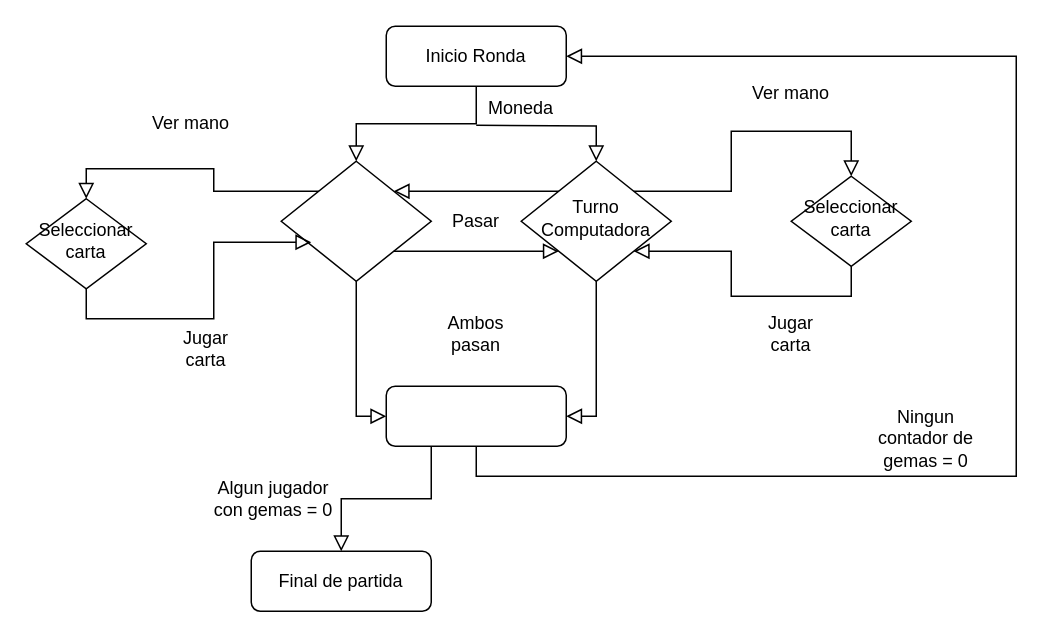
Image size: 1058x638. Some labels were removed from this diagram. Here are the shapes that lost their labels. From the top down, the centre of each, then its label:
At [355,220]: "Turno Jugador".
At [475,415]: "Final de Ronda".
